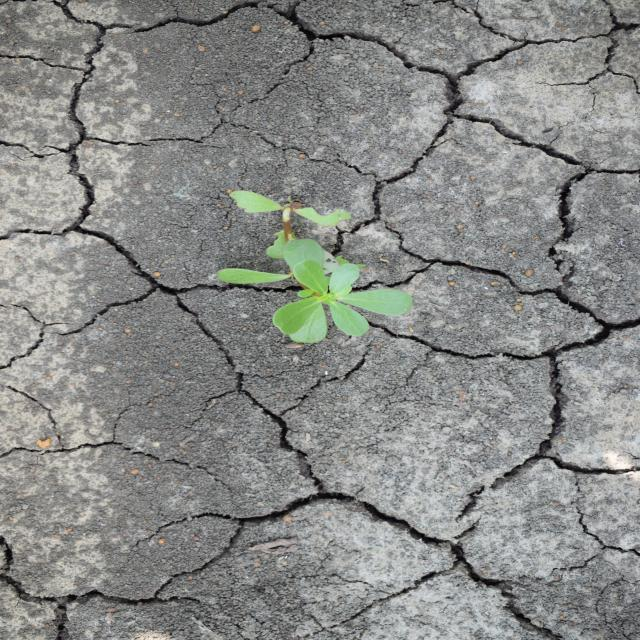Purslane: (214, 189, 416, 345)
